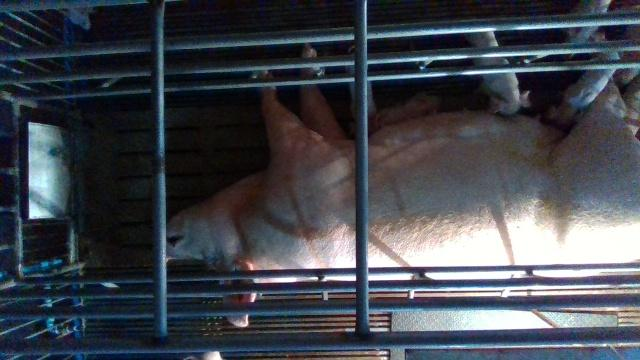piglet: (539, 52, 618, 128), (467, 30, 533, 117), (372, 90, 444, 128), (567, 1, 609, 57)
sow-sleep-lactate: (166, 44, 640, 327)
